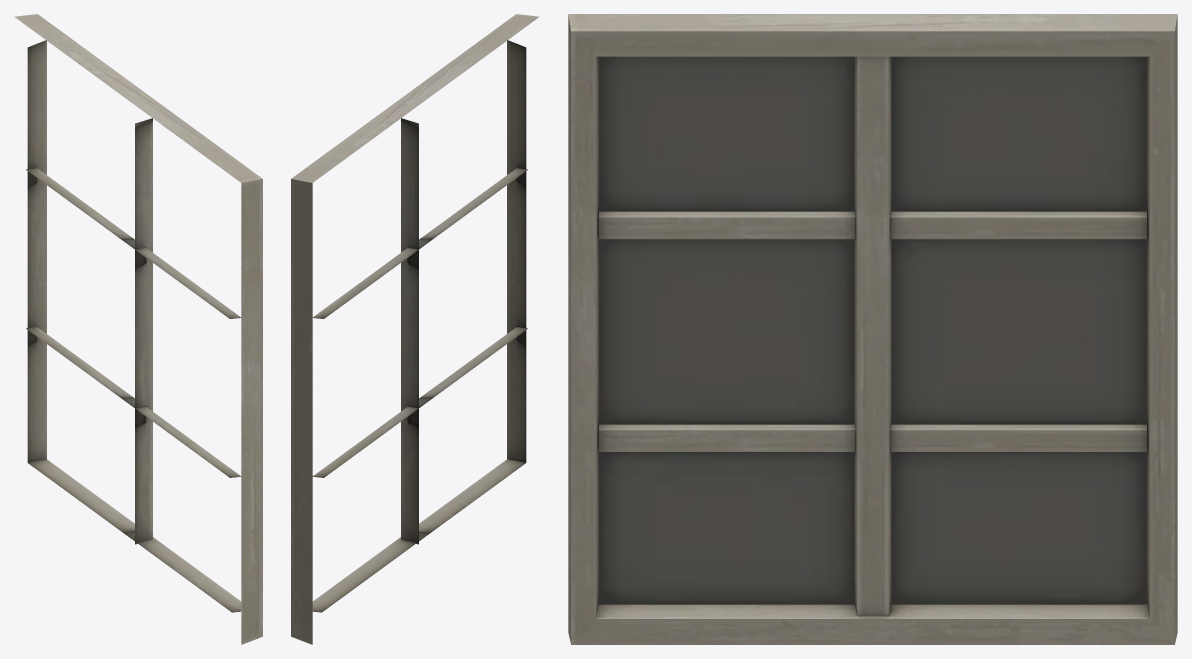
The picture shows the model from 3 angles, left to right: view 1: azimuth 30°, elevation 25°; view 2: azimuth 150°, elevation 25°; view 3: azimuth 270°, elevation 25°; orthographic projection. The views are drawn at different scales.
Parts seen in each view (by area): view 1: body0_model0_lod0_mesh0; view 2: body0_model0_lod0_mesh0; view 3: body0_model0_lod0_mesh0.
Part boxes in pixels (<box>): body0_model0_lod0_mesh0: <box>14,14,262,644</box>; body0_model0_lod0_mesh0: <box>291,14,539,644</box>; body0_model0_lod0_mesh0: <box>568,14,1177,644</box>.
Bounding box in the file's own units: 3.5 × 68.83 × 61.38.
1 material, 1 textured.
